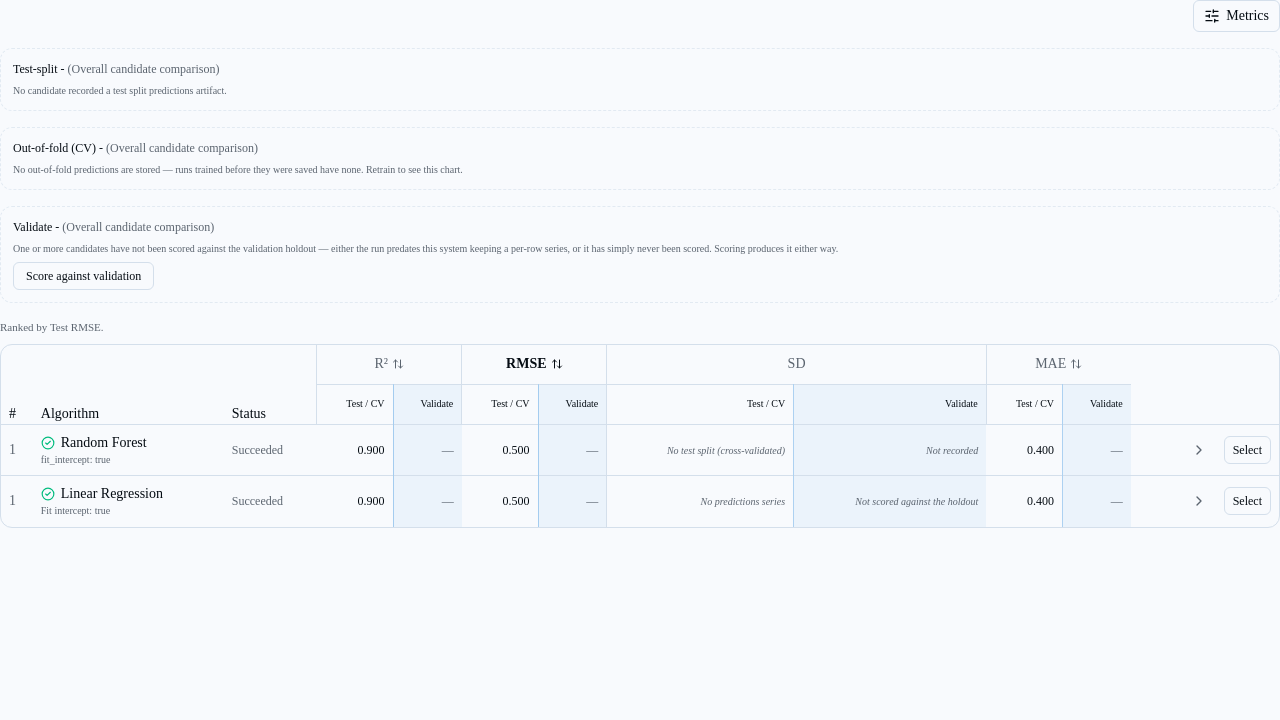
Phase4ModelSelection — per-candidate Test/Validate pair (MODEL-FLOW-019-T28) › V38: a CV candidate and a non-CV candidate give DIFFERENT absence reasons for their missing chart
Click the button named "show charts" in the row of "Random Forest". click: (1199, 450)
box: [1180, 436, 1218, 464]
(page scrolled)
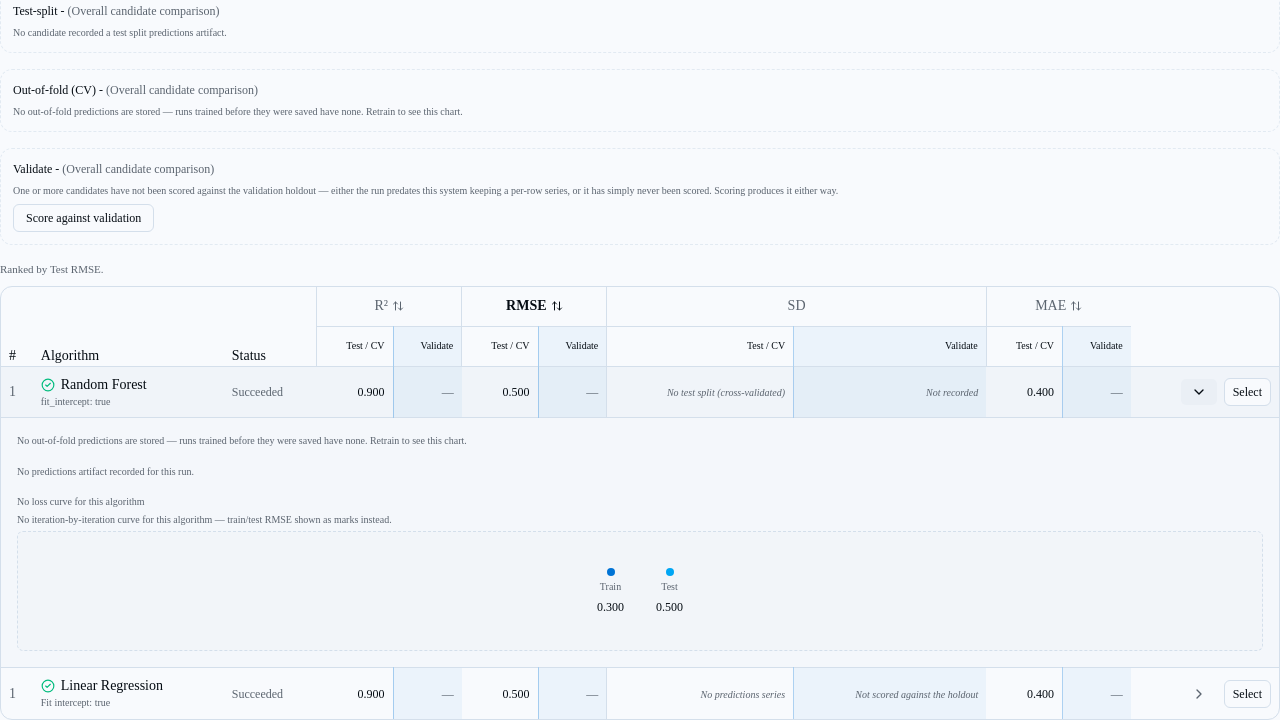
Click the button named "show charts". click: (1199, 694)
box: [1180, 680, 1218, 708]
(page scrolled)
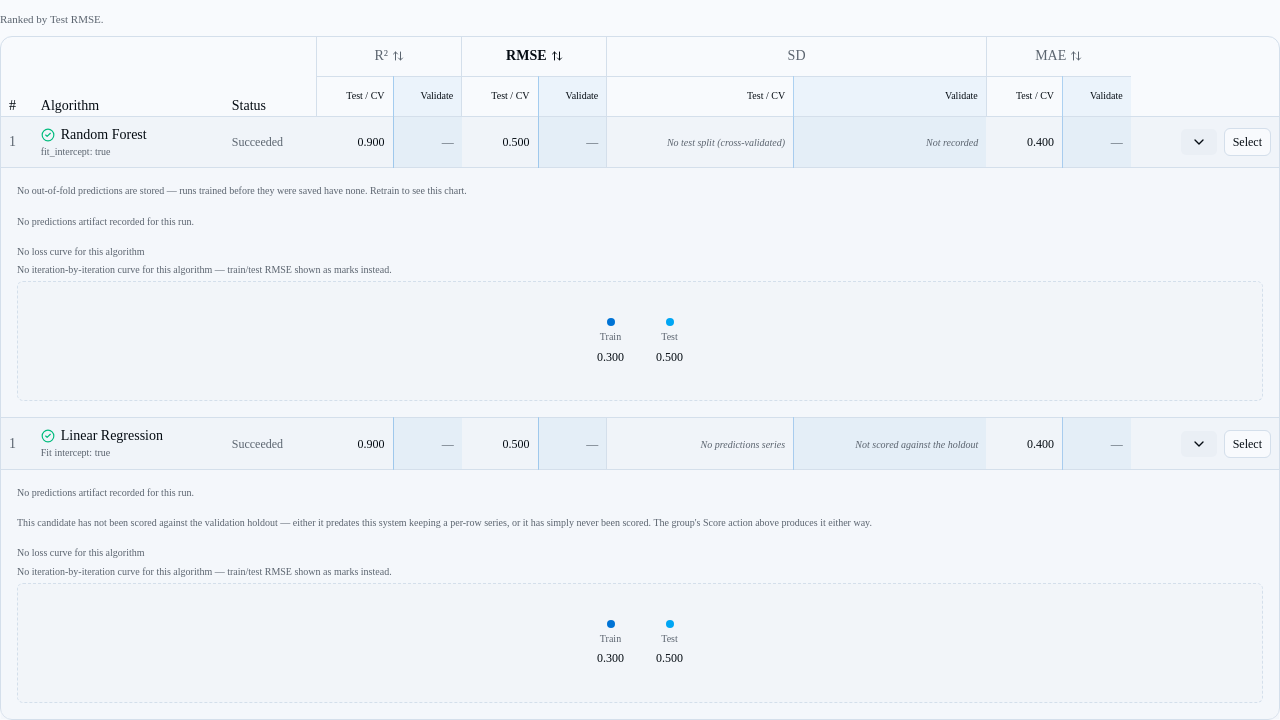
Expected: the text "No out-of-fold predictions are stored" does not show "score"
Expected: the text "has not been scored against the validation holdout" shows "group's Score action", [17, 517, 872, 528]
